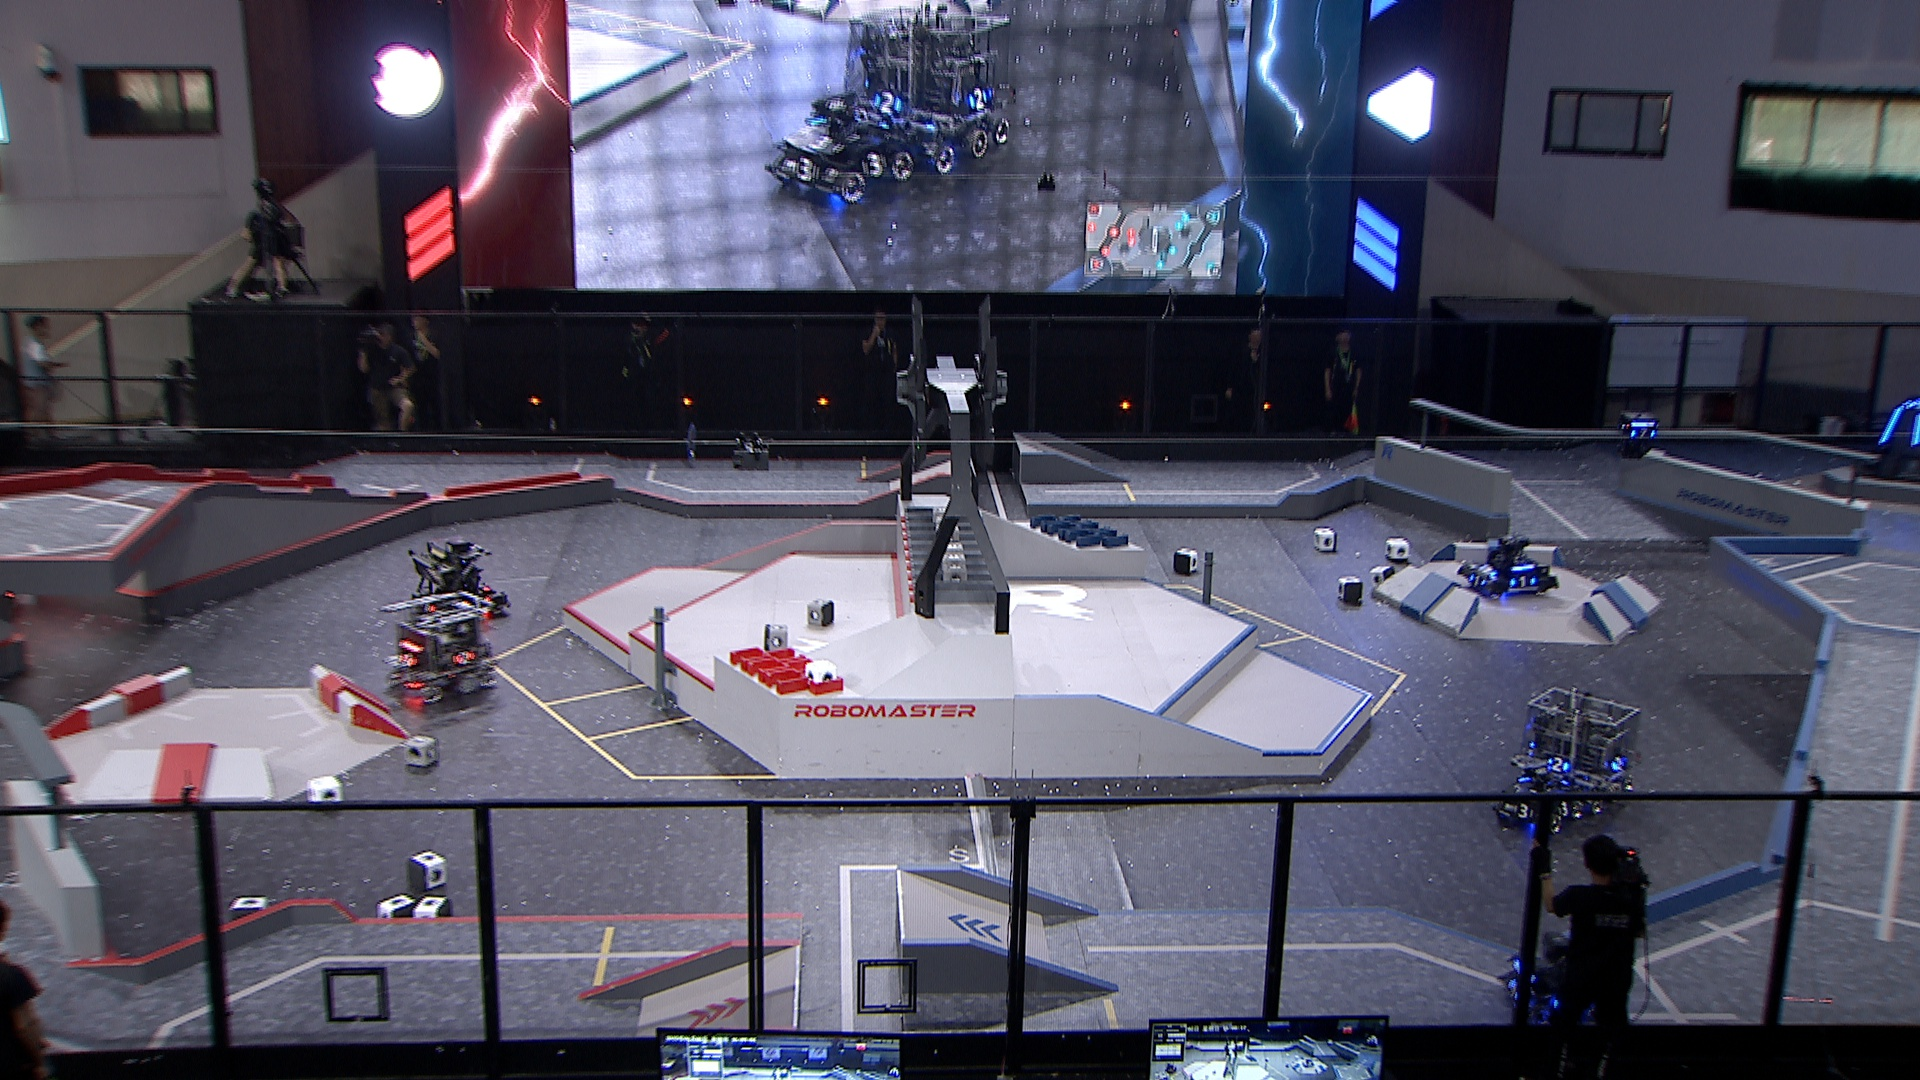armor: (1876, 404, 1904, 444), (452, 650, 476, 669), (1547, 756, 1571, 773), (1509, 575, 1536, 589), (396, 651, 417, 670), (1629, 427, 1656, 440), (1909, 413, 1920, 447), (1515, 802, 1534, 820), (1610, 754, 1629, 773), (1556, 799, 1572, 818), (1468, 574, 1486, 588), (1480, 562, 1498, 576)
base: (1850, 396, 1920, 487)
car: (1513, 683, 1642, 818), (378, 589, 498, 705), (1495, 928, 1618, 1030), (404, 535, 510, 626), (1490, 754, 1590, 833), (1455, 533, 1560, 600)
ignore: (852, 7, 1019, 174), (764, 94, 916, 204)
watcher: (1614, 411, 1662, 460)
